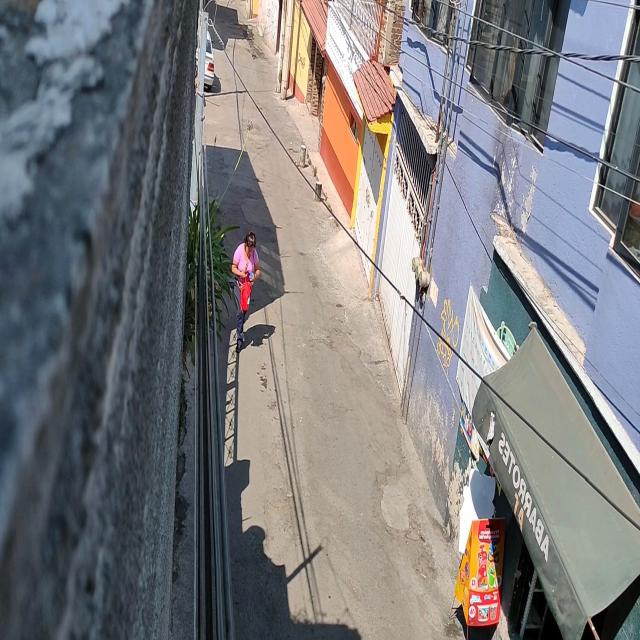adult: (231, 227, 260, 354)
